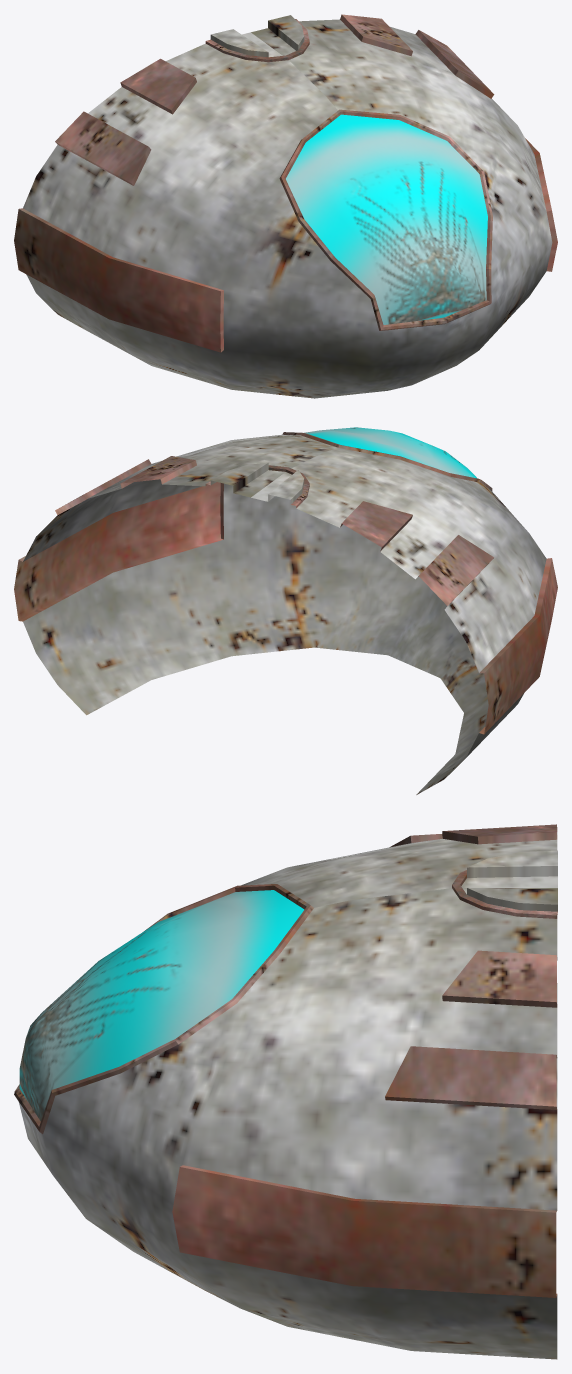
Rendered from Paris_Club_Quick_Ship.fbx.
3 views of the same model, one above another, from view 1: azimuth 30°, elevation 25°; view 2: azimuth 150°, elevation 25°; view 3: azimuth 270°, elevation 25° (orthographic). The views are drawn at different scales.
Parts seen in each view (by area): view 1: polySurface5; view 2: polySurface5; view 3: polySurface5.
Part boxes in pixels (x1,y1,x2,y2): polySurface5: (14, 14, 557, 398); polySurface5: (14, 427, 557, 794); polySurface5: (14, 824, 557, 1359).
Size of the model in its own units: 1981 by 1059 by 1411.
